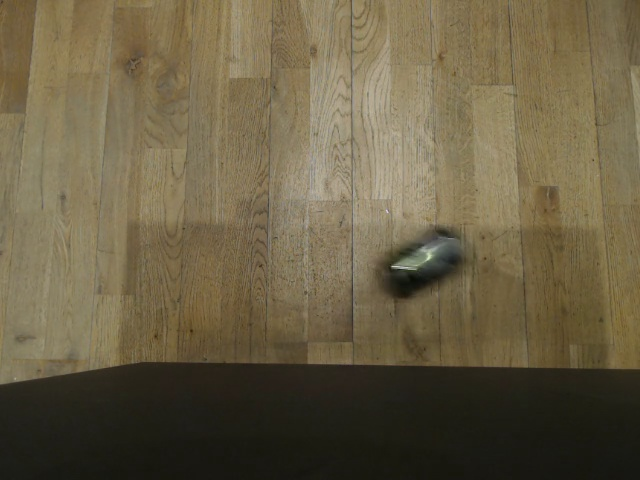beer: (376, 220, 466, 305)
